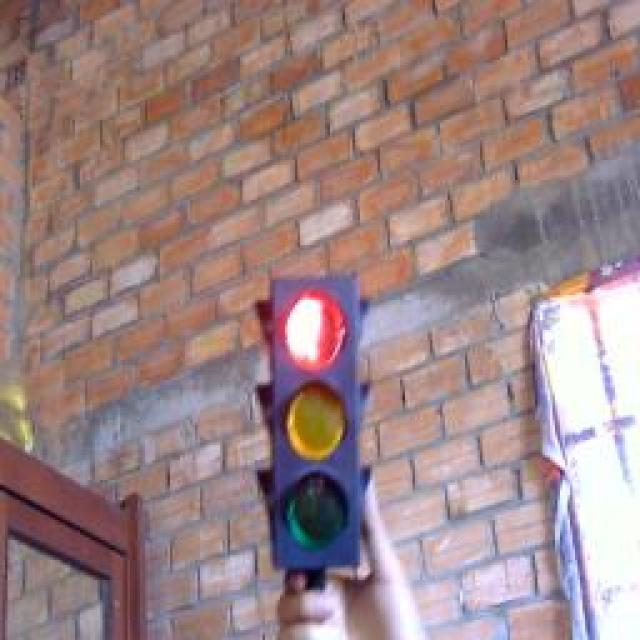-: (280, 285, 350, 380)
